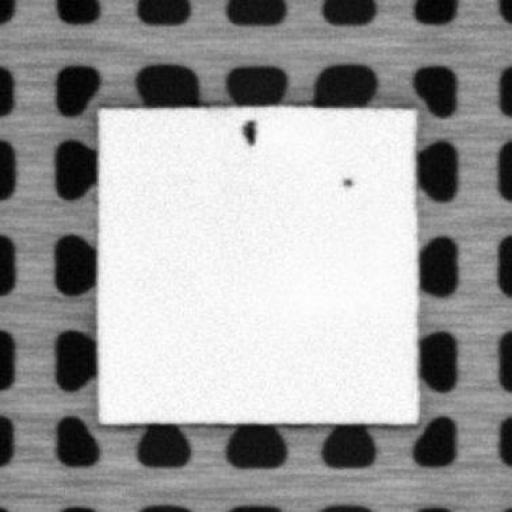DIE_INK: (240, 115, 256, 143), (340, 173, 352, 188)
